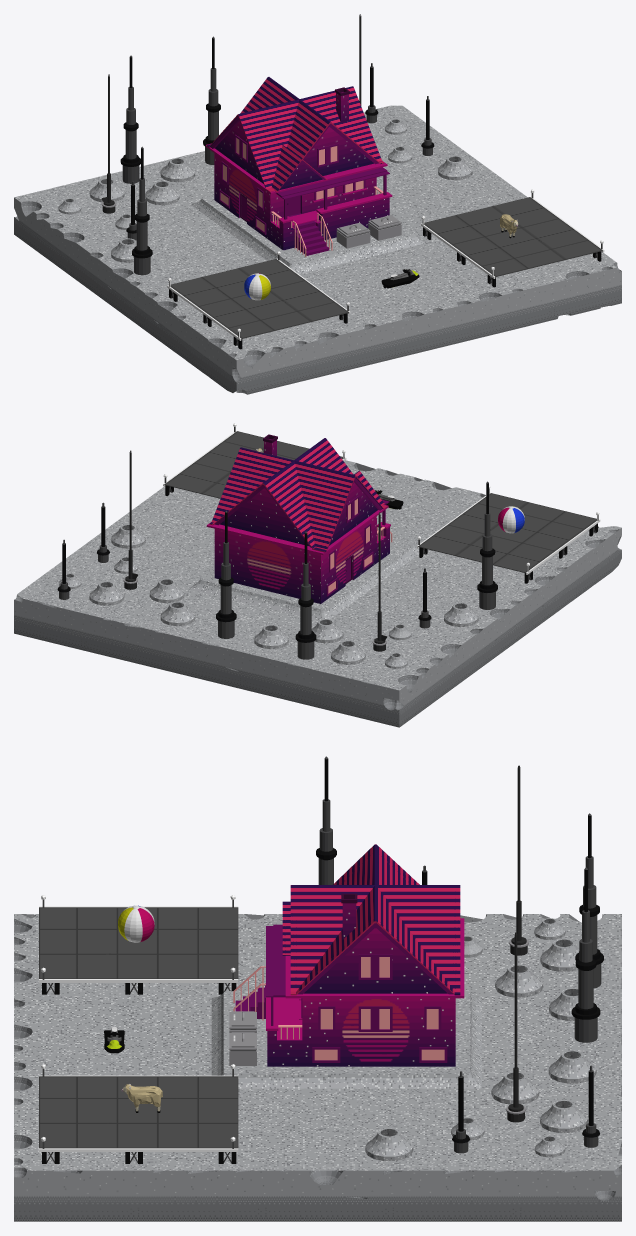
The picture shows the model from 3 angles, top to bottom: view 1: azimuth 30°, elevation 25°; view 2: azimuth 150°, elevation 25°; view 3: azimuth 270°, elevation 25°; orthographic projection. The views are drawn at different scales.
Visible parts, largest first — view 1: Cube.027, Cube.156, Cube.026, Cube.025, Cube.028, Cylinder.020, Cylinder.021, Cylinder.017, Cube.029, Cube.030, Cylinder.027, Cylinder.033 (+3 smaller); view 2: Cube.027, Cube.156, Cube.025, Cube.028, Cube.026, Cylinder.020, Cylinder.021, Cylinder.017, Cylinder.031, Cylinder.028, Cylinder.029, Cylinder.030 (+7 smaller); view 3: Cube.027, Cube.156, Cube.026, Cube.025, Cube.028, Cylinder.017, Cylinder.020, Cylinder.021, Cylinder.033, Cylinder.031, Cylinder.029, Cylinder.026 (+10 smaller).
Part boxes in pixels (box(x1,y1,x2,y2)): Cube.027: box(14, 105, 621, 394); Cube.156: box(205, 77, 392, 256); Cube.026: box(421, 189, 604, 287); Cube.025: box(167, 251, 350, 349); Cube.028: box(191, 195, 424, 274); Cylinder.020: box(120, 55, 140, 183); Cylinder.021: box(132, 146, 152, 275); Cylinder.017: box(203, 36, 220, 164); Cube.029: box(336, 222, 370, 248); Cube.030: box(368, 215, 401, 240); Cylinder.027: box(160, 158, 195, 182); Cylinder.033: box(438, 156, 472, 180); Cube.027: box(14, 460, 621, 727); Cube.156: box(206, 434, 392, 603); Cube.025: box(417, 485, 600, 583); Cube.028: box(190, 538, 419, 620); Cube.026: box(163, 423, 346, 498); Cylinder.020: box(295, 531, 316, 659); Cylinder.021: box(477, 481, 497, 609); Cylinder.017: box(216, 510, 236, 638); Cylinder.031: box(89, 581, 124, 605); Cylinder.028: box(331, 640, 365, 664); Cylinder.029: box(160, 601, 195, 626); Cylinder.030: box(149, 578, 184, 603); Cube.027: box(14, 914, 621, 1221); Cube.156: box(233, 844, 464, 1066); Cube.026: box(39, 1064, 238, 1163); Cube.025: box(39, 895, 238, 994); Cube.028: box(211, 991, 481, 1088); Cylinder.017: box(571, 867, 600, 1042); Cylinder.020: box(575, 813, 603, 988); Cylinder.021: box(316, 756, 336, 884); Cylinder.033: box(365, 1128, 413, 1160); Cylinder.031: box(540, 1100, 587, 1132); Cylinder.029: box(548, 1050, 596, 1083); Cylinder.026: box(495, 964, 543, 997).
Bounding box in the file's own units: 4000 × 1822 × 4000.
Materials: 31 (7 with a texture image).
